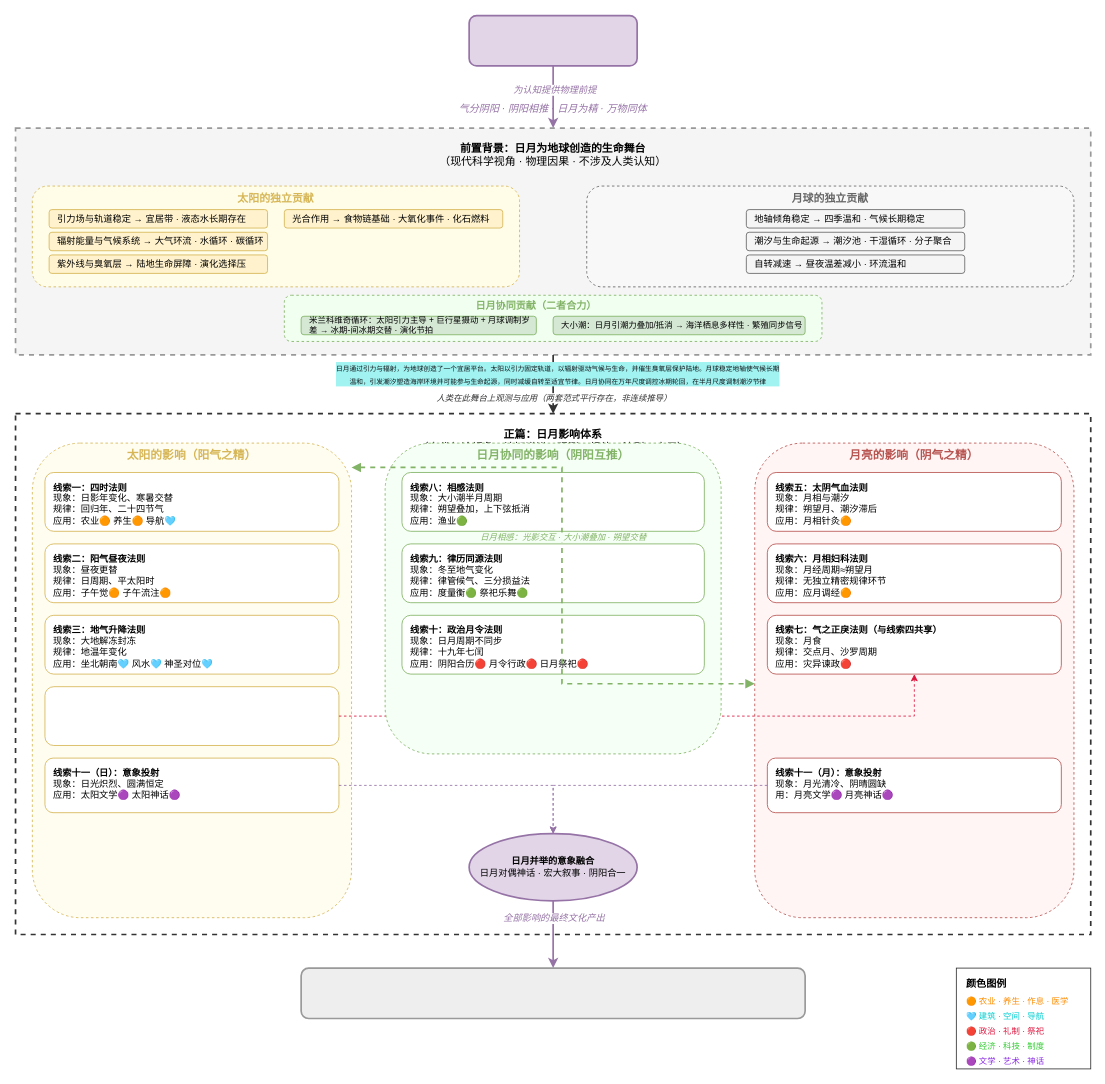
This 1105x1084 diagram has some shape labels left out. The shapes that lost their labels are listed below. From the top down, each one's centre as x and y in pixels, then its label:
At (553,40): "天地同气 （万物本体）".
At (191,716): "线索四：气之正戾法则 现象：日食、黑子 规律：交点月、沙罗周期 应用：灾异谏政🔴".
At (553,993): "日月并举 —— 宇宙完整与时间流动的象征 日月对偶神话 · 宏大叙事 · 阴阳合一".
